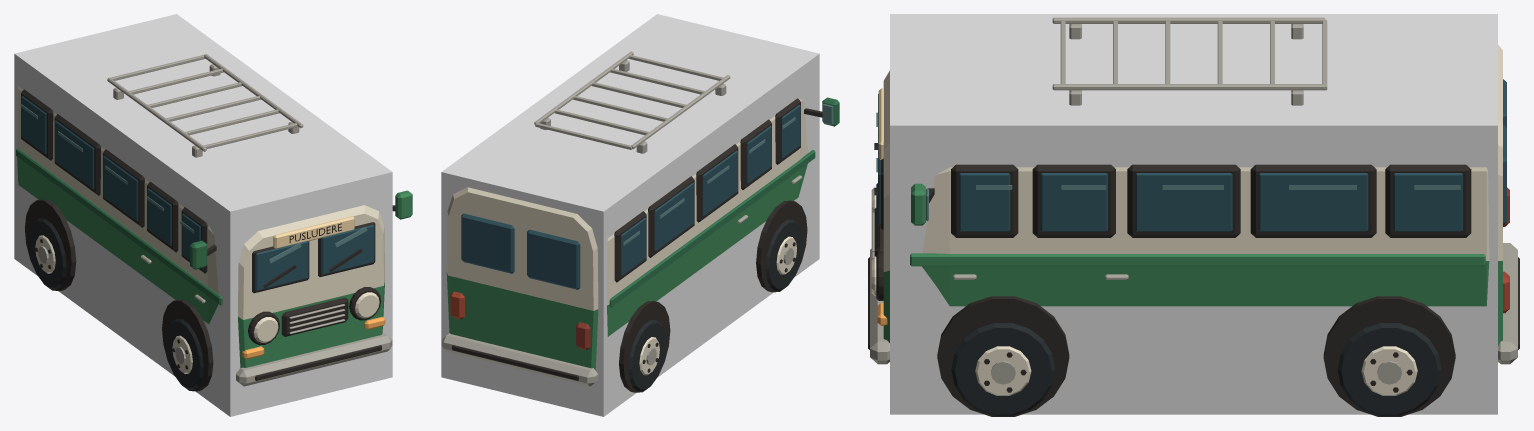
The model's file is minibus.glb.
The picture shows the model from 3 angles, left to right: view 1: azimuth 30°, elevation 25°; view 2: azimuth 150°, elevation 25°; view 3: azimuth 270°, elevation 25°; orthographic projection. The views are drawn at different scales.
Visible parts, largest first — view 1: Body-col, Body, Windows, Roof rack, Wheels, Wheel arches, Bumpers, Lights, Beltline, Grille, Sign, Mirrors; view 2: Body-col, Body, Windows, Roof rack, Wheels, Wheel arches, Bumpers, Beltline, Lights, Mirrors; view 3: Body-col, Body, Windows, Wheels, Wheel arches, Beltline, Roof rack, Bumpers, Lights, Mirrors.
Part boxes in pixels (x1=…): Body-col: x1=14, y1=14, x2=392, y2=416; Body: x1=17, y1=86, x2=385, y2=367; Windows: x1=21, y1=89, x2=375, y2=293; Roof rack: x1=107, y1=54, x2=303, y2=157; Wheels: x1=29, y1=218, x2=203, y2=389; Wheel arches: x1=25, y1=199, x2=213, y2=391; Bumpers: x1=236, y1=333, x2=392, y2=386; Lights: x1=242, y1=287, x2=385, y2=359; Beltline: x1=16, y1=148, x2=222, y2=305; Grille: x1=281, y1=297, x2=348, y2=336; Sign: x1=273, y1=216, x2=354, y2=248; Mirrors: x1=190, y1=190, x2=412, y2=269; Body-col: x1=441, y1=14, x2=819, y2=416; Body: x1=446, y1=99, x2=808, y2=369; Windows: x1=461, y1=98, x2=800, y2=289; Roof rack: x1=534, y1=51, x2=730, y2=153; Wheels: x1=628, y1=219, x2=803, y2=391; Wheel arches: x1=619, y1=200, x2=807, y2=392; Bumpers: x1=441, y1=333, x2=598, y2=386; Beltline: x1=609, y1=150, x2=815, y2=307; Lights: x1=450, y1=291, x2=590, y2=350; Mirrors: x1=804, y1=97, x2=839, y2=126; Body-col: x1=890, y1=14, x2=1497, y2=414; Body: x1=883, y1=45, x2=1502, y2=346; Windows: x1=876, y1=79, x2=1506, y2=237; Wheels: x1=951, y1=323, x2=1441, y2=415; Wheel arches: x1=937, y1=296, x2=1455, y2=416; Beltline: x1=910, y1=253, x2=1485, y2=266; Roof rack: x1=1052, y1=17, x2=1327, y2=105; Bumpers: x1=868, y1=243, x2=1519, y2=364; Lights: x1=871, y1=183, x2=1509, y2=325; Mirrors: x1=911, y1=183, x2=934, y2=225.
Bounding box in the file's own units: 2.87 × 2.72 × 5.23.
